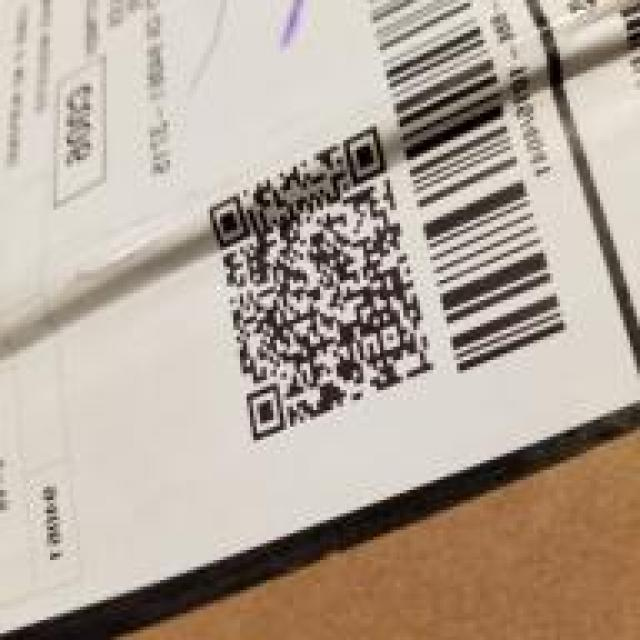QR_CODE: (197, 107, 440, 470)
